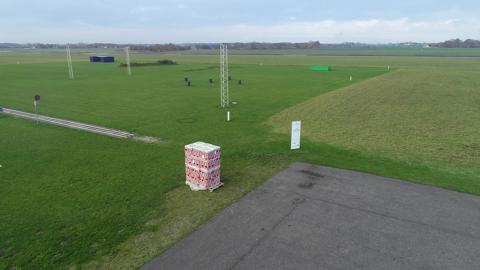RockwoolPallet: (184, 140, 222, 190)
